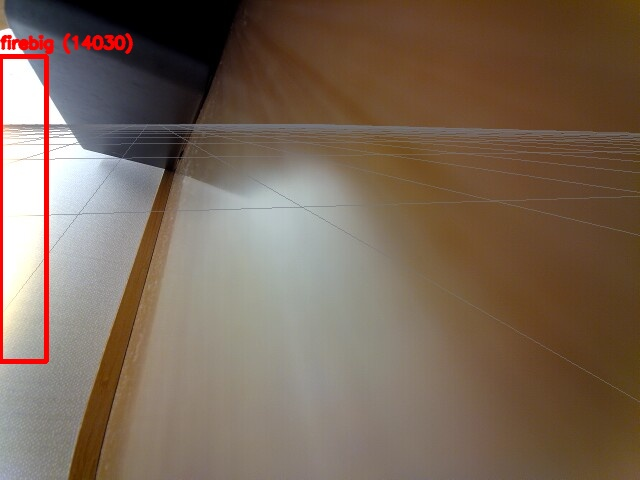firebig: (0, 56, 46, 361)
